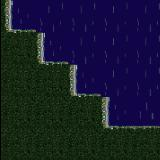Interaction: (0, 0, 16, 41), (50, 59, 86, 77), (115, 121, 160, 135), (66, 77, 86, 107), (85, 89, 116, 108), (34, 42, 50, 78), (97, 108, 115, 134), (16, 27, 49, 41)
Slow: (13, 0, 160, 31), (44, 32, 160, 62), (77, 62, 160, 92), (109, 92, 160, 124)
